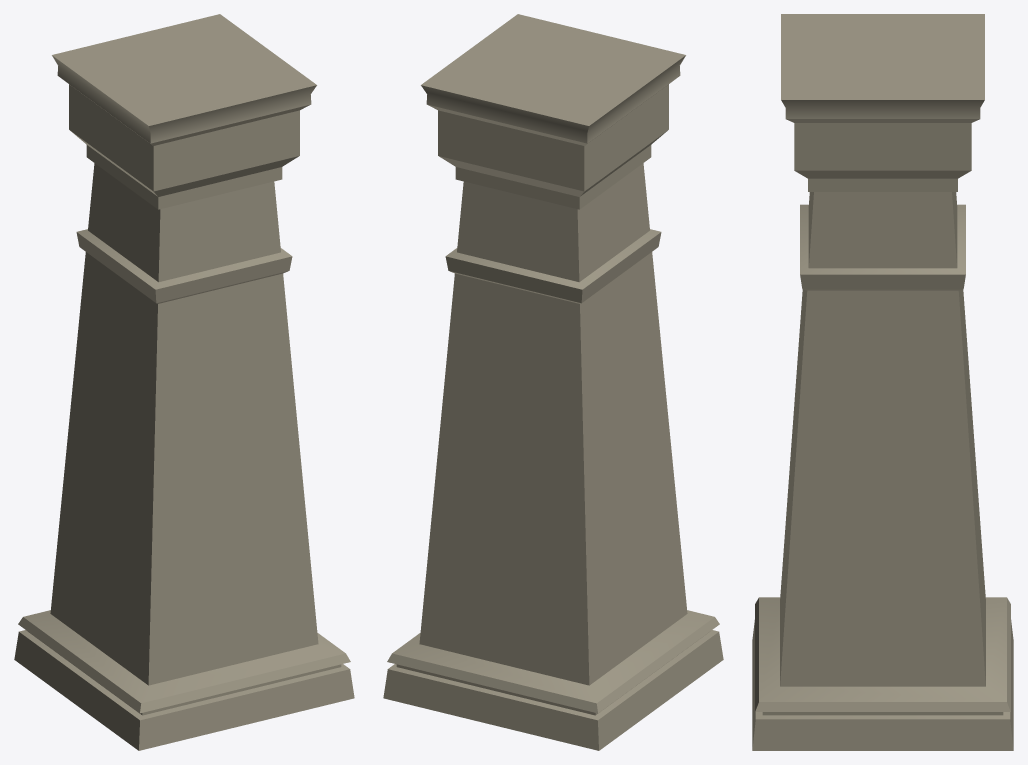
The model's file is Column Square 2.glb.
3 renders of one model, left to right at view 1: azimuth 30°, elevation 25°; view 2: azimuth 150°, elevation 25°; view 3: azimuth 270°, elevation 25°, orthographic. The views are drawn at different scales.
Visible parts, largest first — view 1: Column_SquareSmall_Cube.063; view 2: Column_SquareSmall_Cube.063; view 3: Column_SquareSmall_Cube.063.
Part boxes in pixels (x1,y1,x2,y2): Column_SquareSmall_Cube.063: (14,14,354,750); Column_SquareSmall_Cube.063: (383,14,723,750); Column_SquareSmall_Cube.063: (752,14,1013,750).
Size of the model in its own units: 0.9073 by 2.45 by 0.9073.
